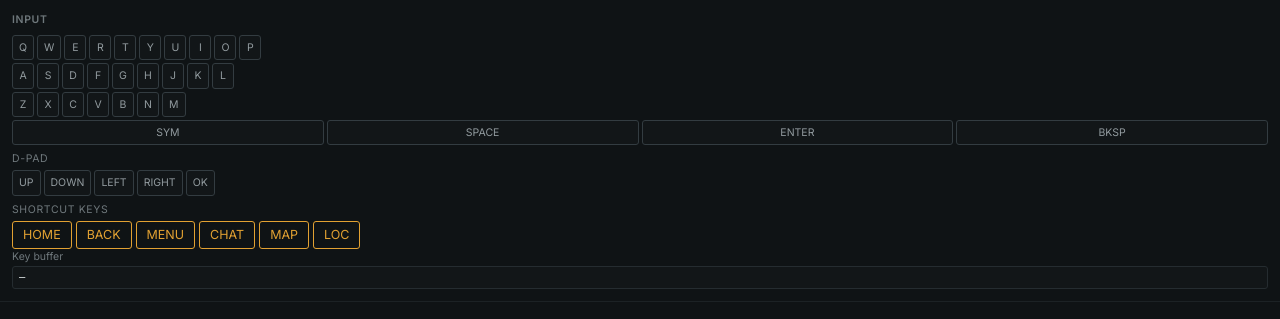
Scenario: InPanel › renders the keyboard matrix, D-pad, shortcuts and a live buffer
What coordinates should you click on to do the following:
click the button "H"
I would click on:
 (148, 76)
Its box is x1=137 y1=63 x2=159 y2=89.
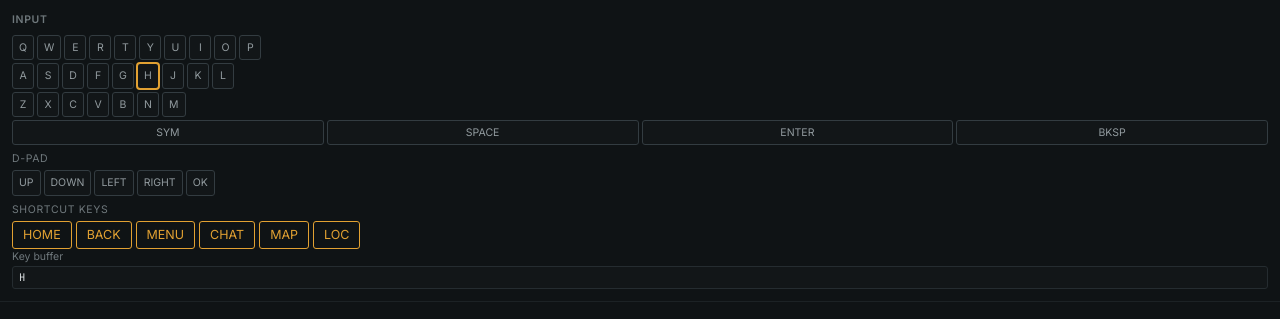
What coordinates should you click on to do the following:
click the button "I"
I would click on:
 (200, 48)
Its box is x1=189 y1=35 x2=211 y2=60.
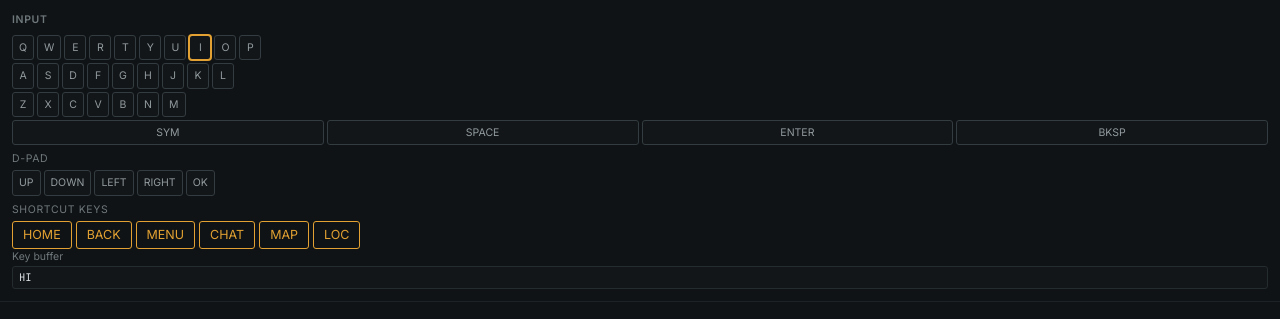
Expected: the button "OK" is shown, x1=186 y1=170 x2=215 y2=196
Expected: the text "HI" is shown, x1=12 y1=266 x2=1268 y2=289
